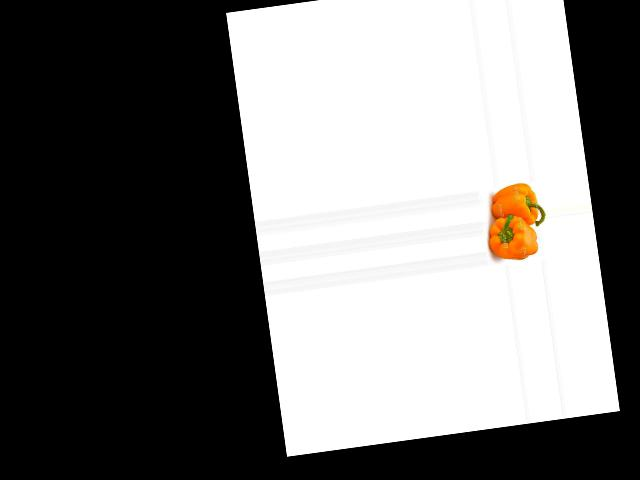bell_pepper: (488, 179, 545, 234)
